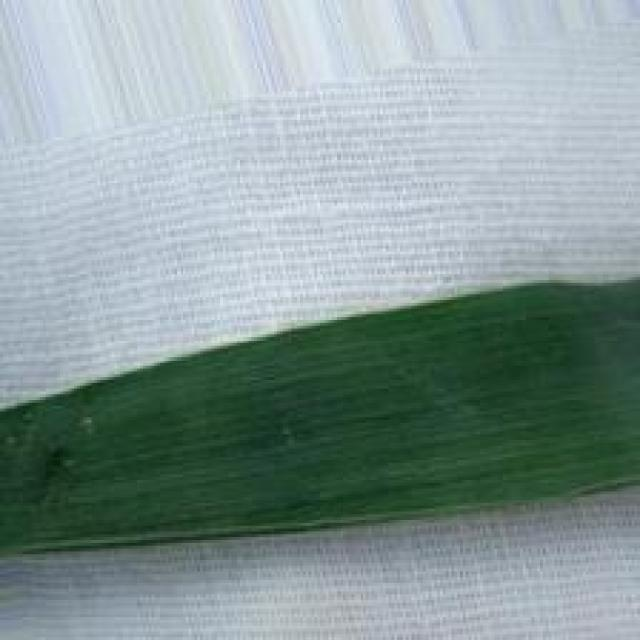Healthy: (0, 272, 640, 561)
